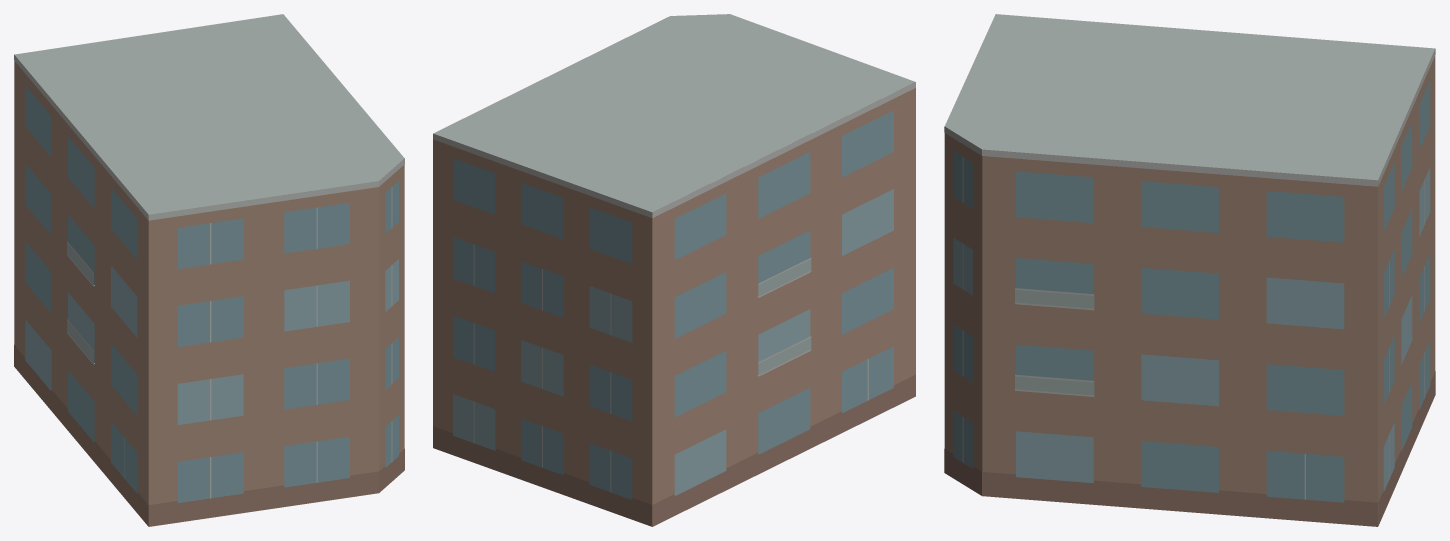
File: survey-upis-32541191.glb
3 renders of one model, left to right at view 1: azimuth 30°, elevation 25°; view 2: azimuth 150°, elevation 25°; view 3: azimuth 270°, elevation 25°, orthographic. The views are drawn at different scales.
Parts seen in each view (by area): view 1: survey-upis-32541191.tmp; view 2: survey-upis-32541191.tmp; view 3: survey-upis-32541191.tmp.
Boxes of the visible parts, left/top/right/bottom form: survey-upis-32541191.tmp: left=14, top=14, right=404, bottom=526; survey-upis-32541191.tmp: left=433, top=14, right=915, bottom=526; survey-upis-32541191.tmp: left=944, top=14, right=1435, bottom=526.
Size of the model in its own units: 13.49 by 13.1 by 16.82.
